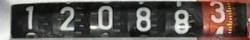digits: (174, 9, 192, 33), (58, 6, 75, 29), (97, 5, 113, 29), (135, 7, 151, 31), (209, 1, 225, 22), (25, 5, 34, 28)
